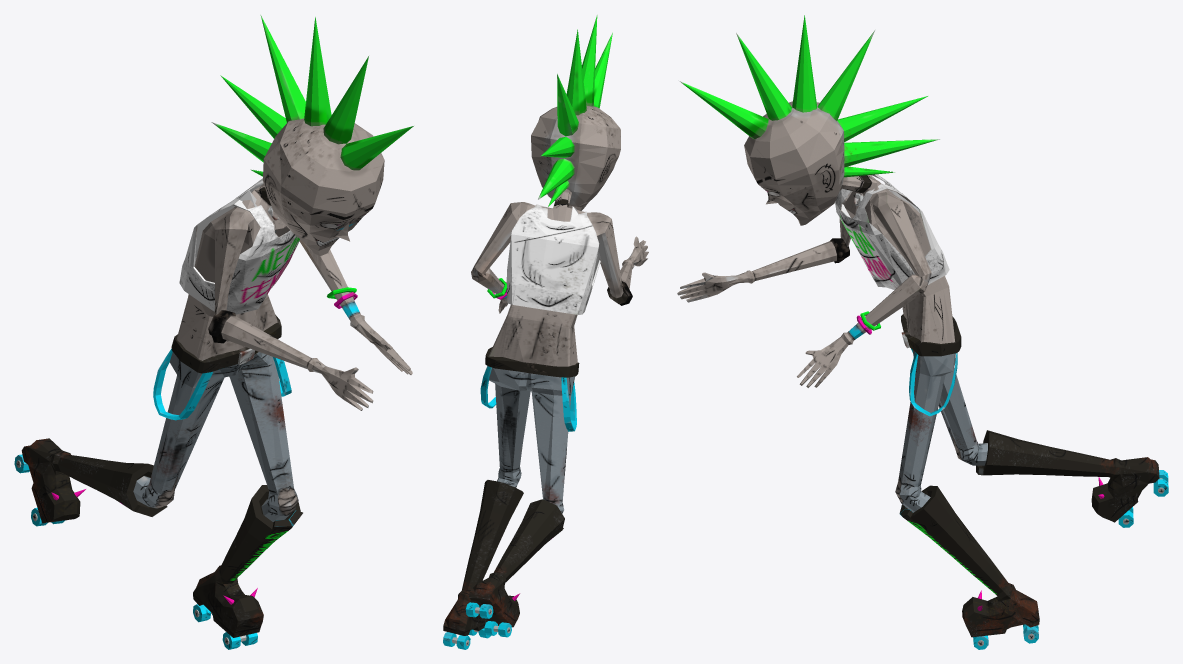
Rendered from punkAnimation_000018.obj.
3 views of the same model, side by side, from view 1: azimuth 30°, elevation 25°; view 2: azimuth 150°, elevation 25°; view 3: azimuth 270°, elevation 25° (orthographic). The views are drawn at different scales.
Parts seen in each view (by area): view 1: Cube.004_Cube.003; view 2: Cube.004_Cube.003; view 3: Cube.004_Cube.003.
Part boxes in pixels (x1=…): Cube.004_Cube.003: x1=14, y1=14, x2=413, y2=649; Cube.004_Cube.003: x1=443, y1=15, x2=648, y2=649; Cube.004_Cube.003: x1=677, y1=15, x2=1168, y2=649.
Size of the model in its own units: 1.93 by 6.81 by 4.89.
